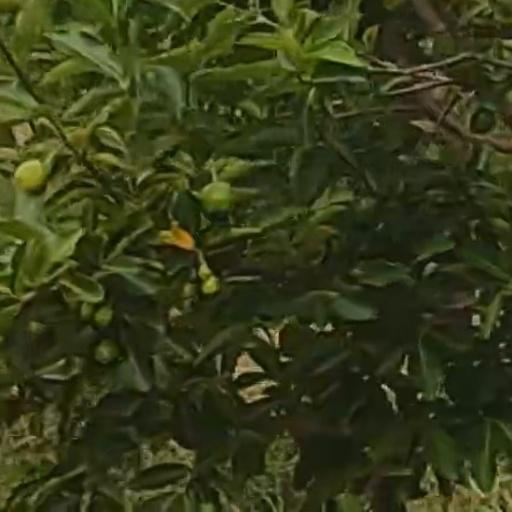acerola: (202, 184, 237, 218), (17, 159, 44, 193)
